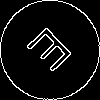E: (25, 25, 81, 81)
